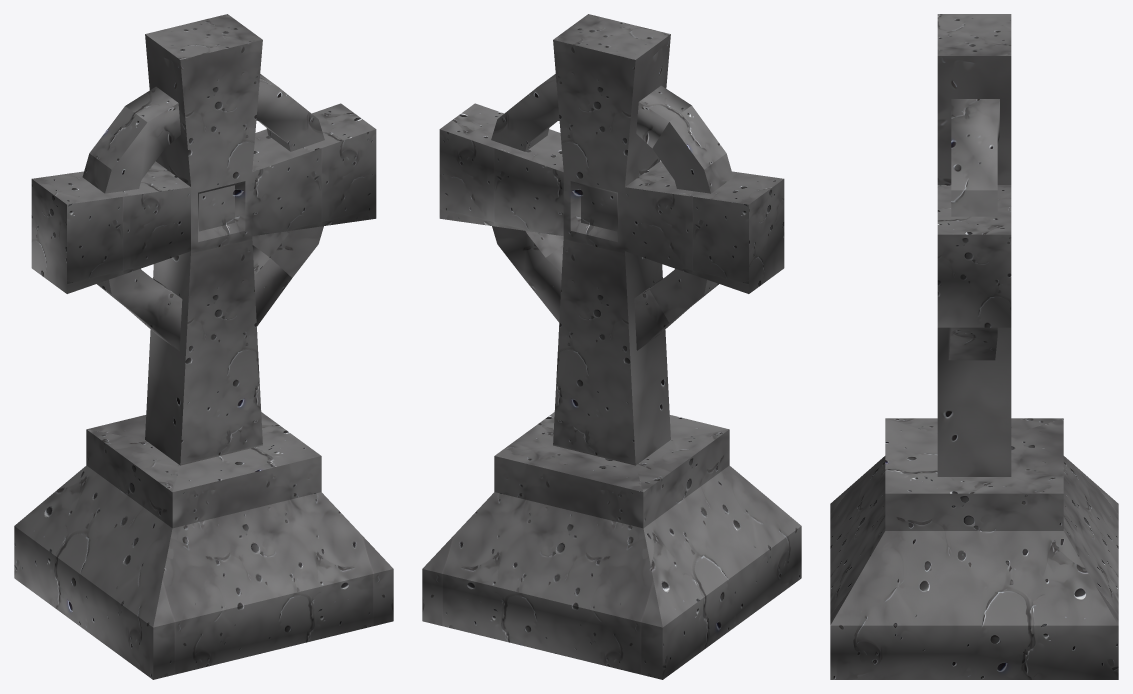
The model's file is Graveyard03.gltf.
3 views of the same model, side by side, from view 1: azimuth 30°, elevation 25°; view 2: azimuth 150°, elevation 25°; view 3: azimuth 270°, elevation 25° (orthographic). The views are drawn at different scales.
Parts seen in each view (by area): view 1: Graveyard03; view 2: Graveyard03; view 3: Graveyard03.
Part boxes in pixels (x1=…): Graveyard03: x1=14, y1=14, x2=393, y2=679; Graveyard03: x1=422, y1=14, x2=801, y2=679; Graveyard03: x1=830, y1=14, x2=1118, y2=679.
Bounding box in the file's own units: 1.04 × 1.8 × 0.8053.
1 material, 1 textured.
